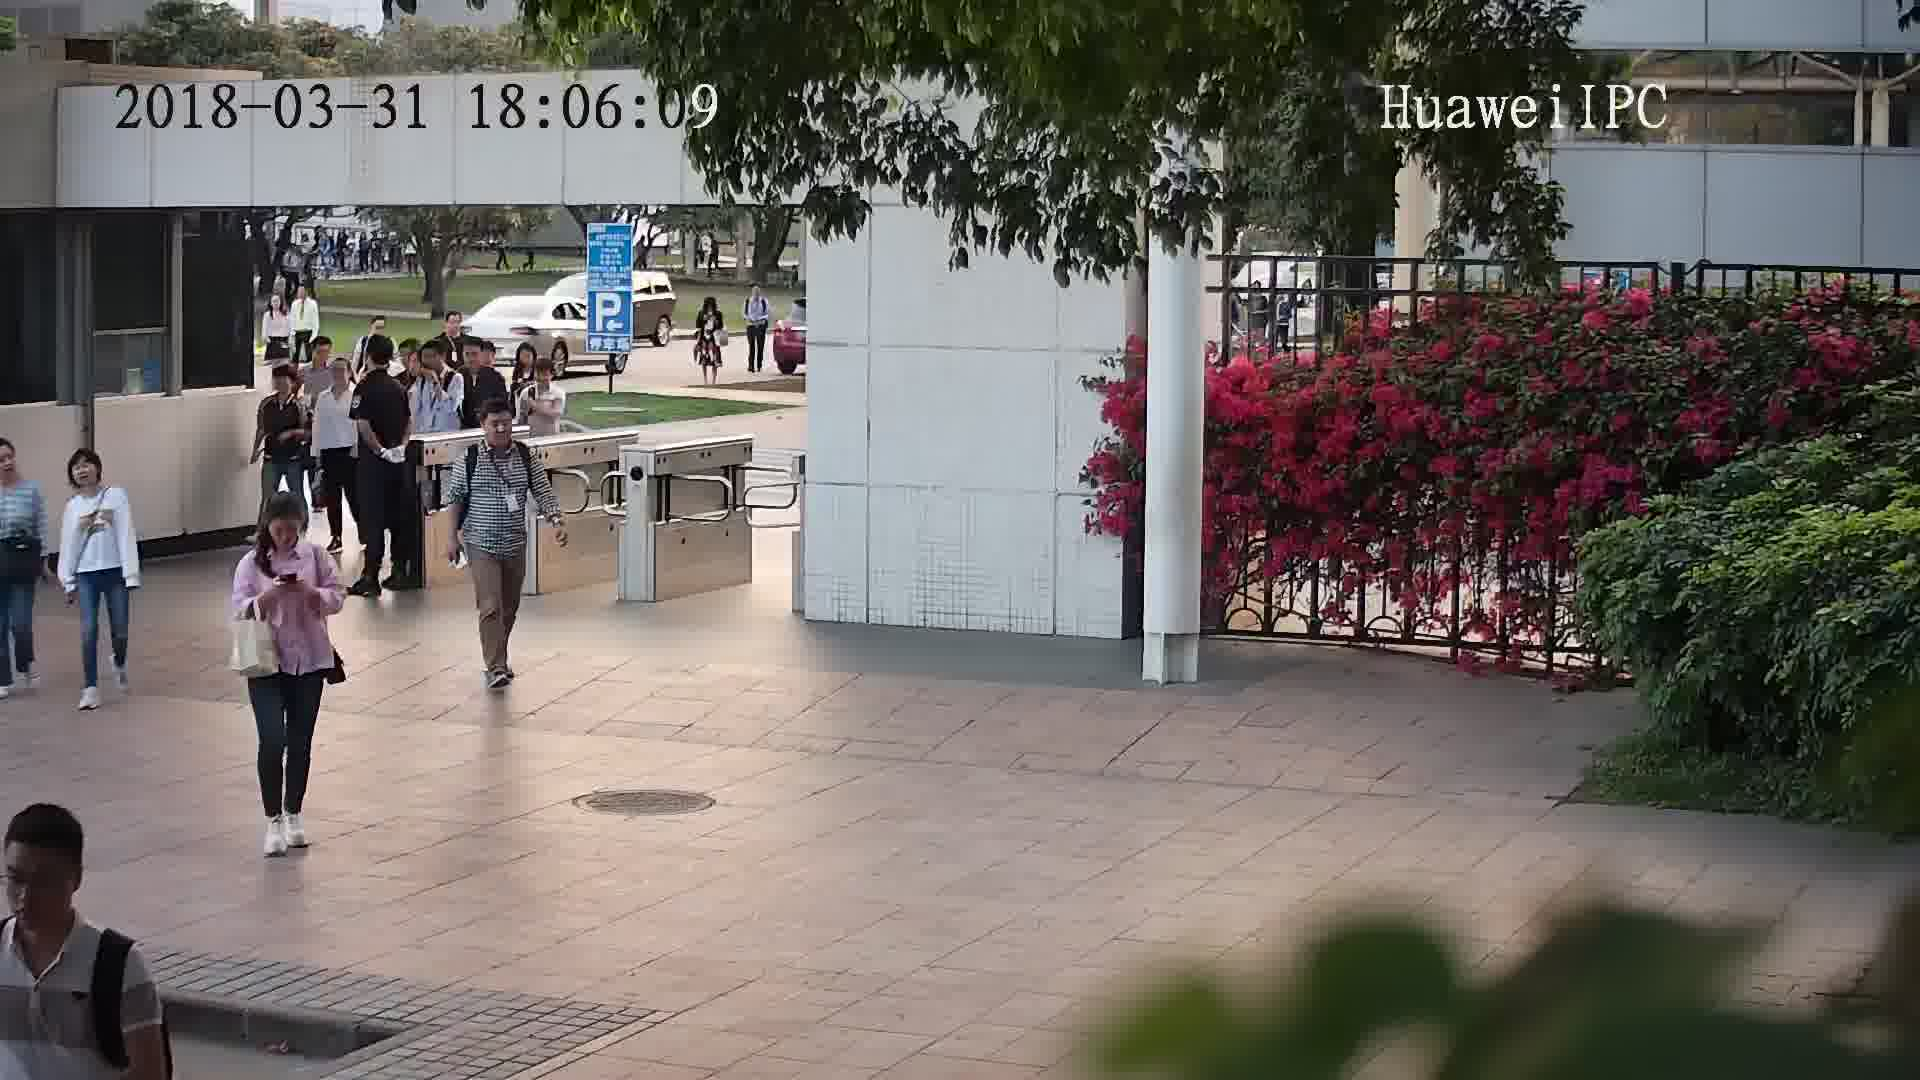face: (1, 835, 88, 933), (263, 511, 302, 553), (64, 451, 102, 491), (484, 407, 514, 447)
person: (1, 801, 154, 995), (237, 493, 333, 575), (460, 396, 535, 468), (60, 444, 133, 519), (356, 337, 406, 398), (416, 337, 466, 395), (1, 436, 41, 504), (260, 362, 308, 414), (315, 356, 361, 407), (463, 335, 508, 384), (301, 334, 346, 381), (524, 355, 567, 402), (435, 307, 466, 347), (509, 342, 541, 379), (264, 287, 294, 323), (292, 277, 321, 310), (747, 281, 771, 307), (700, 293, 722, 319)
